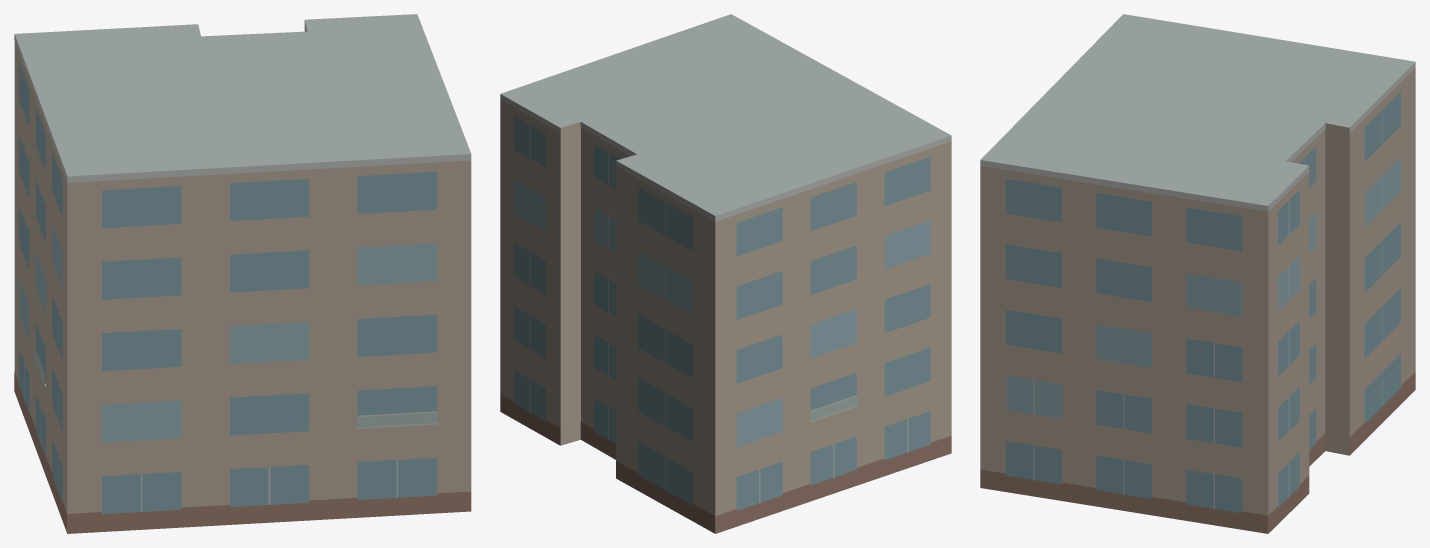
The model's file is survey-upis-32524923.glb.
3 renders of one model, left to right at view 1: azimuth 30°, elevation 25°; view 2: azimuth 150°, elevation 25°; view 3: azimuth 270°, elevation 25°, orthographic. The views are drawn at different scales.
Parts seen in each view (by area): view 1: survey-upis-32524923.tmp; view 2: survey-upis-32524923.tmp; view 3: survey-upis-32524923.tmp.
Boxes of the visible parts, x1,y1,x2,y2 form: survey-upis-32524923.tmp: (14,14,471,533); survey-upis-32524923.tmp: (500,14,951,533); survey-upis-32524923.tmp: (980,14,1415,533).
Size of the model in its own units: 16.98 by 13.52 by 16.28.
